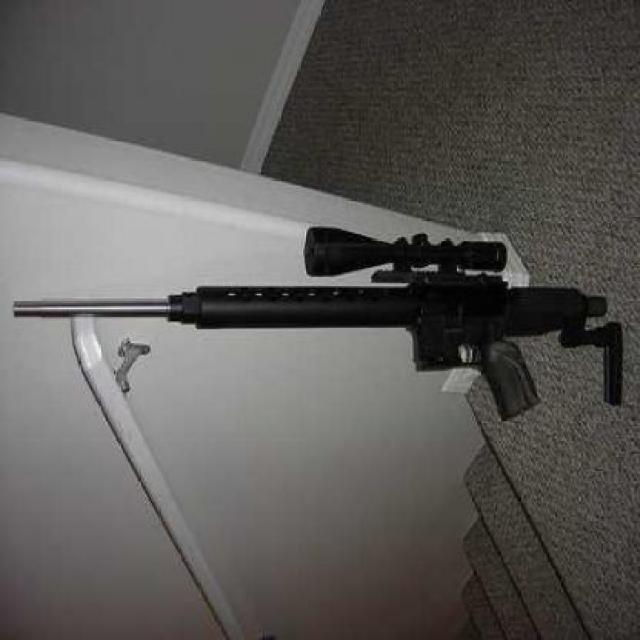weapon: (0, 226, 626, 400)
